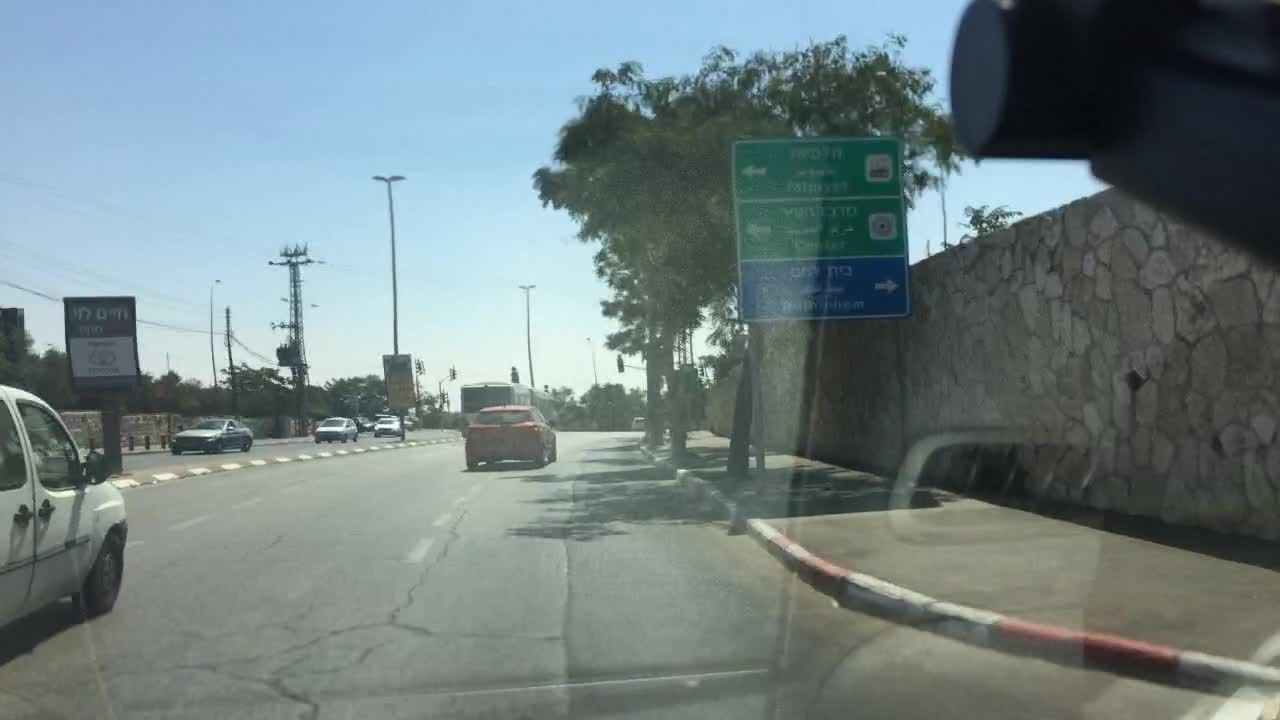bus: (457, 380, 558, 441)
car: (0, 378, 127, 633), (466, 402, 558, 472), (163, 416, 255, 453), (315, 413, 359, 440), (374, 417, 403, 434), (357, 414, 374, 432), (399, 417, 417, 432), (633, 415, 646, 431)
traffic light: (508, 367, 520, 384), (617, 356, 624, 370)
traffic sign: (731, 137, 910, 317), (384, 353, 416, 407)
